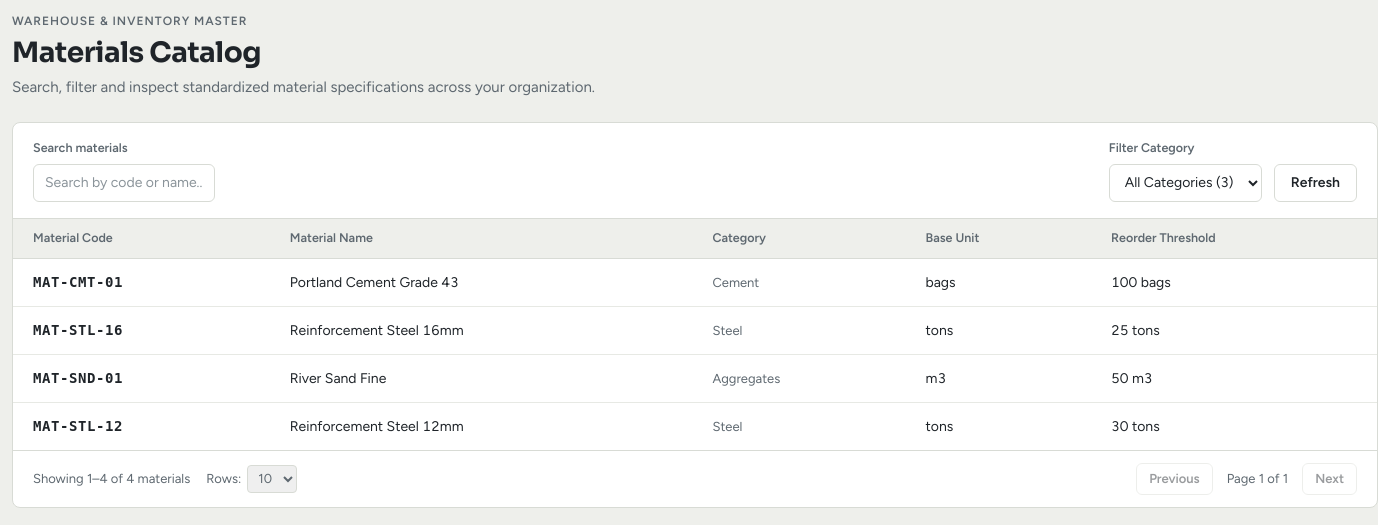
Scenario: MaterialsPage (AESCS-49) › combines keyword and category filtering
Expected: the text "Portland Cement Grade 43" is shown, [270,258,692,306]
Select "Steel" in the dropdown named "filter by category" at coordinates (1185, 183), box [1109,164,1262,202]
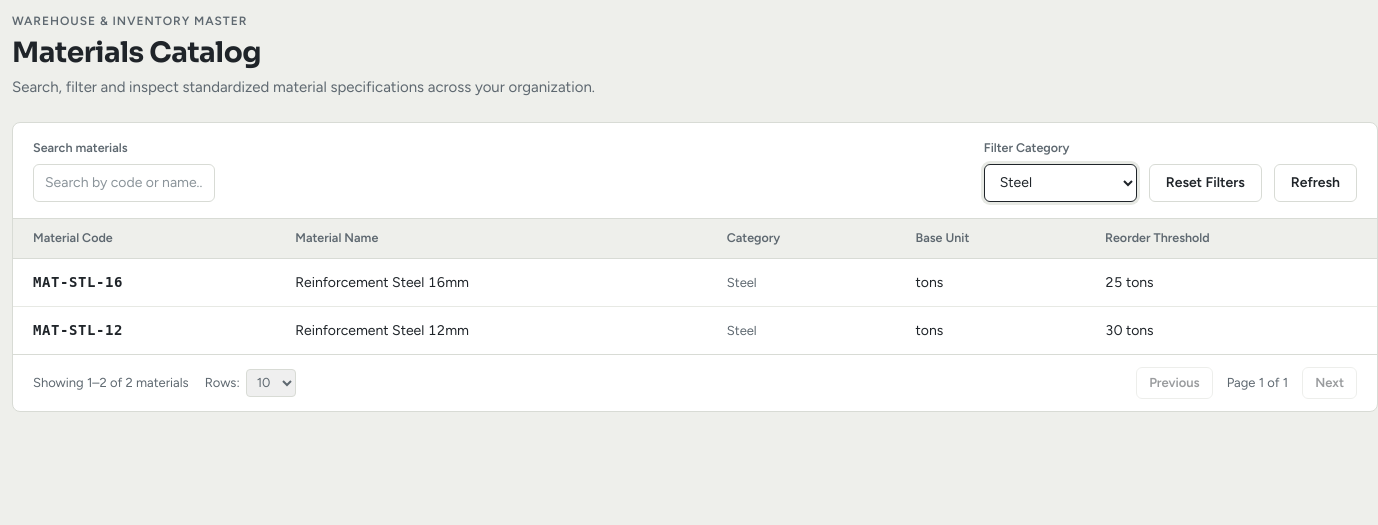
Type "16mm" into the field labelled "Search materials" at coordinates (124, 183), box [33,164,215,202]
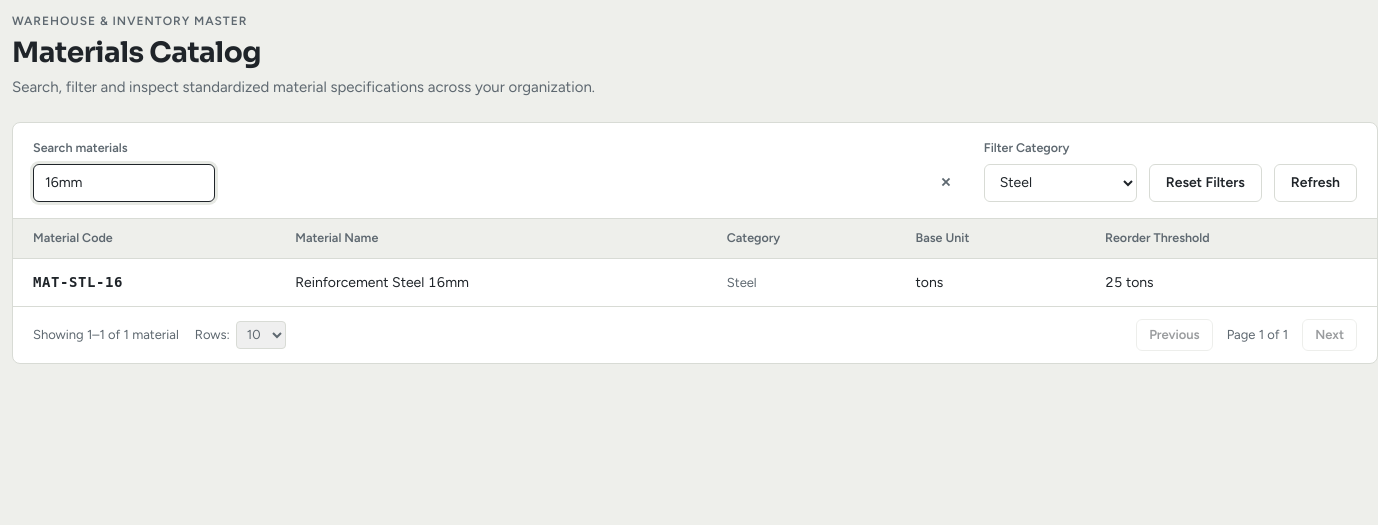
Expected: the text "Reinforcement Steel 16mm" is shown, [275,258,707,306]
Expected: the text "Reinforcement Steel 12mm" is gone
